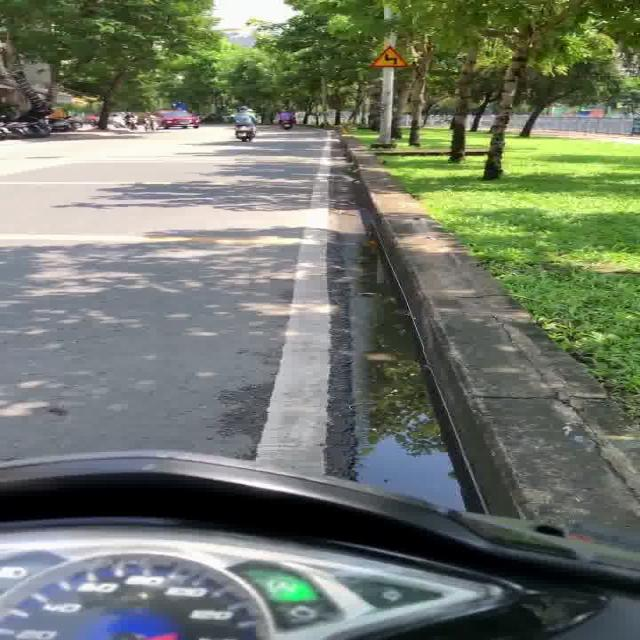Bien bao nhieu cho ngoat nguy hiem lien tiep: (363, 44, 413, 71)
